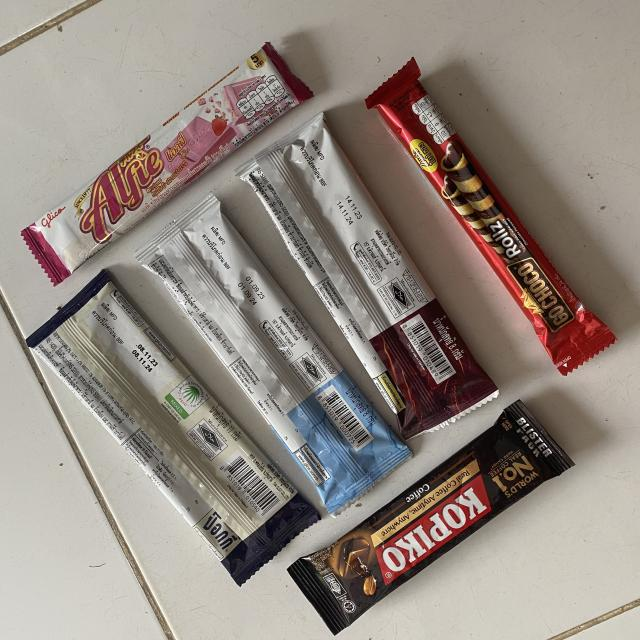plastik: (26, 271, 319, 585), (236, 112, 499, 439), (138, 195, 410, 511), (366, 59, 616, 375), (21, 42, 312, 285), (288, 400, 574, 634)
